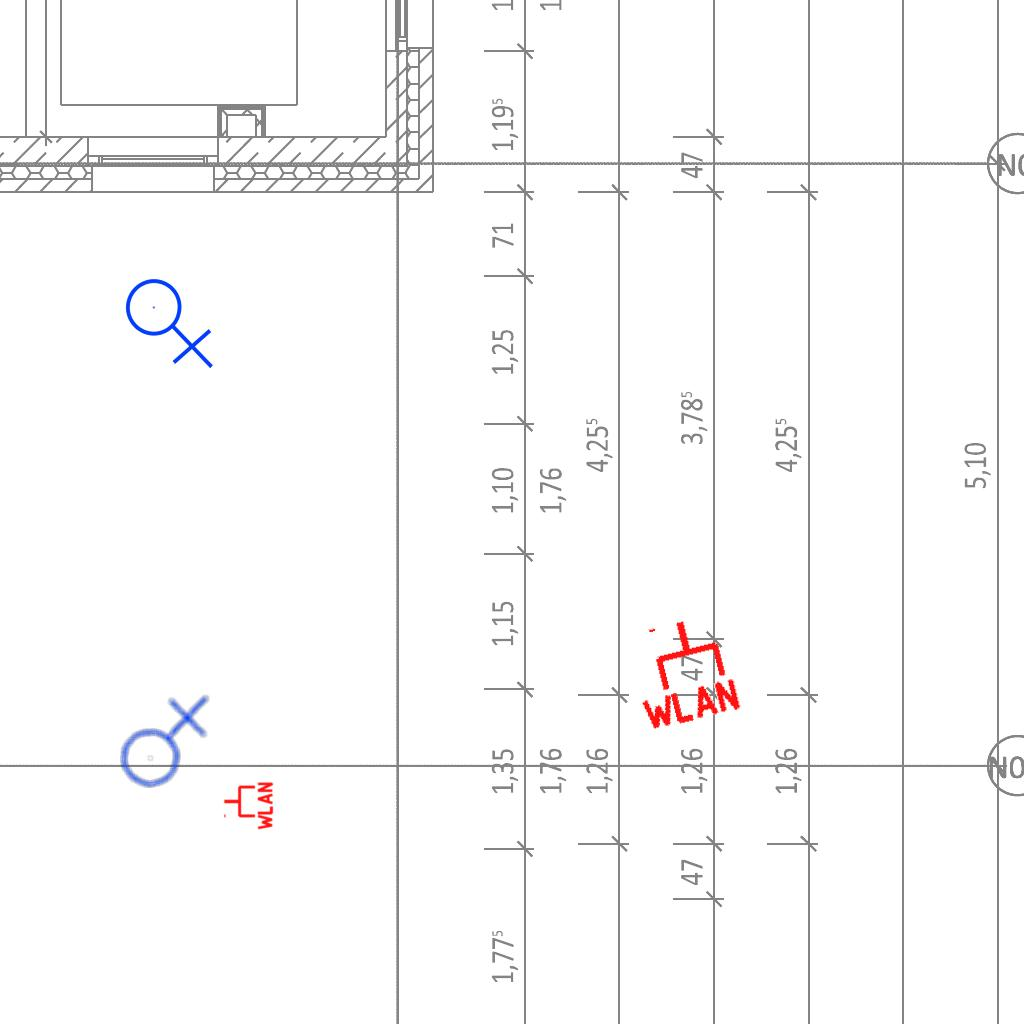Elektroanschluss_allgemein_230V_Geraeteanschlussdose_230V: (109, 690, 214, 790), (124, 270, 218, 369)
WLAN: (619, 607, 746, 735), (222, 780, 274, 832)
